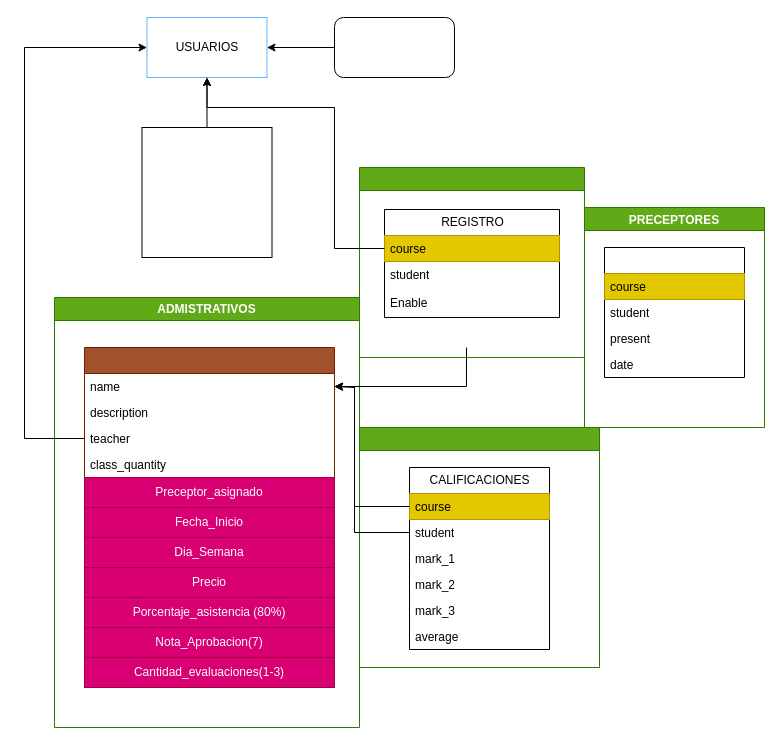
The diagram is 782 pixels wide and 745 high, and some of its shapes have lost their labels. The shapes that lost their labels are listed below. From the top down, each one's box as (x1, y1, x2, y2) in pixels, then its label:
(334, 16, 454, 78): PERFIL
(141, 126, 272, 258): GRUPOS: estudiantes profesores adminstradores preceptores
(358, 166, 584, 358): ESTUDIANTES / ADMINIST
(604, 246, 744, 378): ASISTENCIAS
(84, 346, 334, 688): CURSOS
(358, 426, 600, 668): PROFESORES
